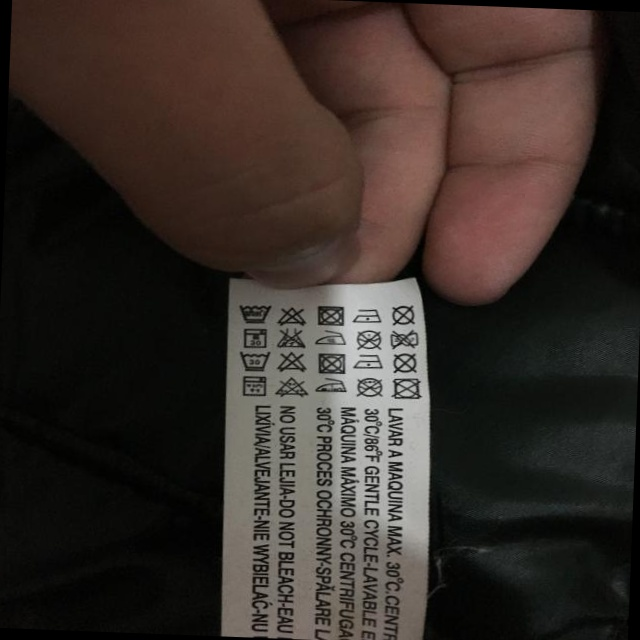30C: (238, 299, 274, 324), (236, 348, 272, 371), (240, 374, 271, 400), (244, 322, 270, 350)
DN_bleach: (275, 373, 309, 399), (275, 350, 309, 375), (278, 304, 308, 327)
DN_dry_clean: (391, 347, 422, 377), (355, 372, 384, 399), (391, 299, 418, 326), (355, 327, 385, 350)
DN_tumble_dry: (315, 300, 348, 330), (316, 350, 349, 376), (393, 374, 421, 402)
DN_wring: (389, 328, 425, 350)
iron: (316, 328, 348, 347)
iron_low: (314, 375, 348, 397), (353, 306, 386, 328), (356, 348, 387, 371)
